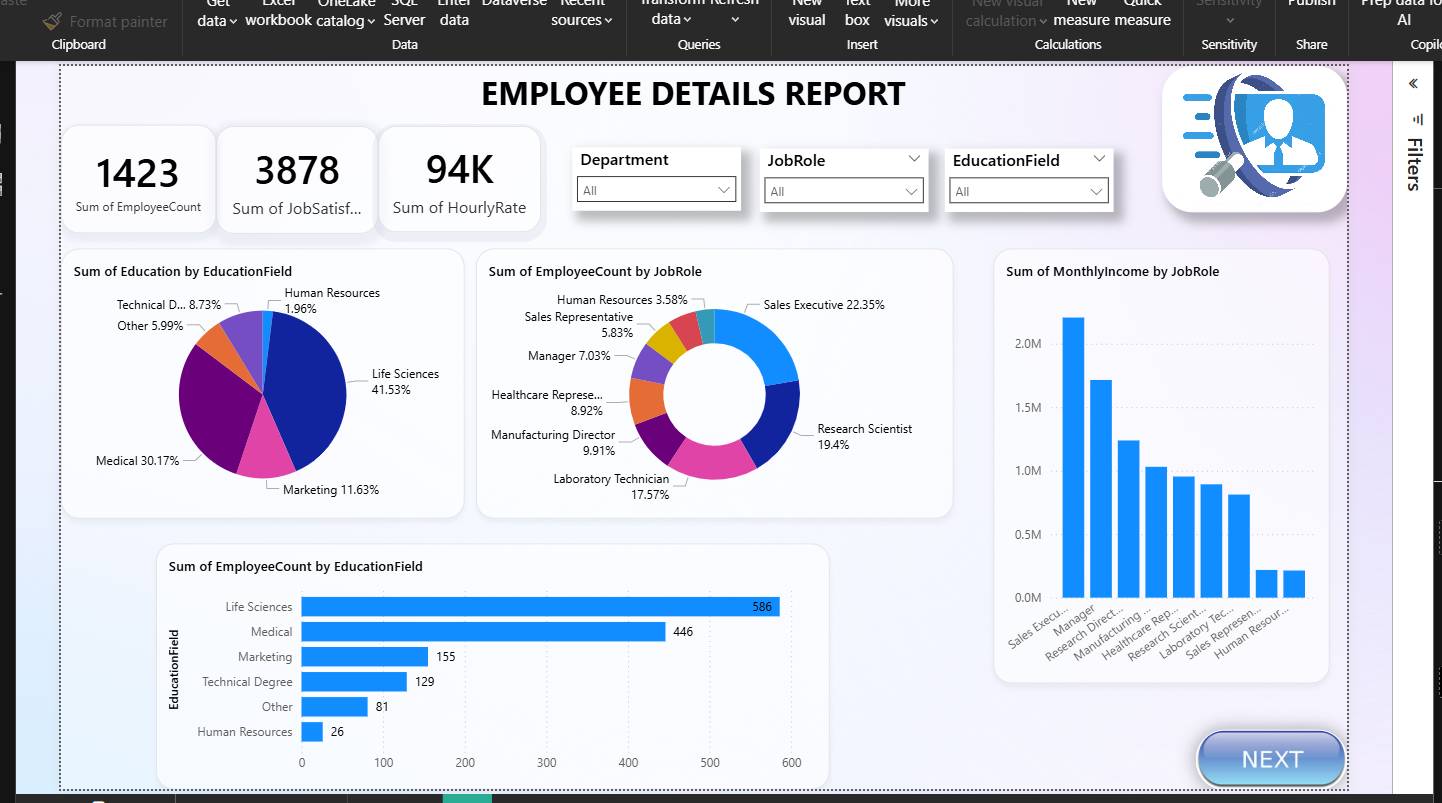

Layout of this report page (visuals, bound fields, positions):
{"tool":"powerbi","page":{"name":"Employee Details' ","canvas":[1280,720],"ordinal":0},"visuals":[{"type":"clusteredColumnChart","fields":{"Y":["Sum(HR_Analytics (2).MonthlyIncome)"],"Category":["HR_Analytics (2).JobRole"]},"box":[928,181.6,334.6,432.9],"z":0},{"type":"pieChart","fields":{"Y":["Sum(HR_Analytics (2).Education)"],"Series":["HR_Analytics (2).EducationField"]},"box":[0,181.6,401.8,268.7],"z":1000},{"type":"card","fields":{"Values":["Sum(HR_Analytics (2).JobSatisfaction)"]},"box":[154.3,59.7,161.7,107],"z":2000},{"type":"card","fields":{"Values":["Sum(HR_Analytics (2).EmployeeCount)"]},"box":[0,58.5,154.3,108.2],"z":3000},{"type":"textbox","box":[412.5,0,566.2,68.3],"z":4000},{"type":"clusteredBarChart","fields":{"Category":["HR_Analytics (2).EducationField"],"Y":["Sum(HR_Analytics (2).EmployeeCount)"]},"box":[94.5,475.2,670.5,245.1],"z":5000},{"type":"donutChart","fields":{"Category":["HR_Analytics (2).JobRole"],"Y":["Sum(HR_Analytics (2).EmployeeCount)"]},"box":[413,181.6,475.2,268.7],"z":6000},{"type":"slicer","fields":{"Values":["HR_Analytics (2).Department"]},"box":[508.8,80.9,167.9,63.4],"z":7000},{"type":"card","fields":{"Values":["Sum(HR_Analytics (2).HourlyRate)"]},"box":[316,59.7,161.7,105.7],"z":8000},{"type":"slicer","fields":{"Values":["HR_Analytics (2).JobRole"]},"box":[695.4,82.1,167.9,63.4],"z":9000},{"type":"slicer","fields":{"Values":["HR_Analytics (2).EducationField"]},"box":[879.5,82.1,167.9,63.4],"z":10000},{"type":"image","box":[1095.9,0,184.1,145.5],"z":11000},{"type":"image","box":[1129.5,660.5,150.5,59.7],"z":12000}]}

Visuals, with their boxes on the page's 1280x720 design canvas (x1, y1, x2, y2). These are canvas units, not pixel positions in the 1442x803 screenshot, which may show the page scaled, cropped or inside an application window:
clusteredColumnChart - Sum(HR_Analytics (2).MonthlyIncome) x HR_Analytics (2).JobRole: box(928, 182, 1263, 614)
pieChart - Sum(HR_Analytics (2).Education) x HR_Analytics (2).EducationField: box(0, 182, 402, 450)
card - Sum(HR_Analytics (2).JobSatisfaction): box(154, 60, 316, 167)
card - Sum(HR_Analytics (2).EmployeeCount): box(0, 58, 154, 167)
textbox: box(412, 0, 979, 68)
clusteredBarChart - HR_Analytics (2).EducationField x Sum(HR_Analytics (2).EmployeeCount): box(94, 475, 765, 720)
donutChart - HR_Analytics (2).JobRole x Sum(HR_Analytics (2).EmployeeCount): box(413, 182, 888, 450)
slicer - HR_Analytics (2).Department: box(509, 81, 677, 144)
card - Sum(HR_Analytics (2).HourlyRate): box(316, 60, 478, 165)
slicer - HR_Analytics (2).JobRole: box(695, 82, 863, 146)
slicer - HR_Analytics (2).EducationField: box(880, 82, 1047, 146)
image: box(1096, 0, 1280, 146)
image: box(1130, 660, 1280, 720)
